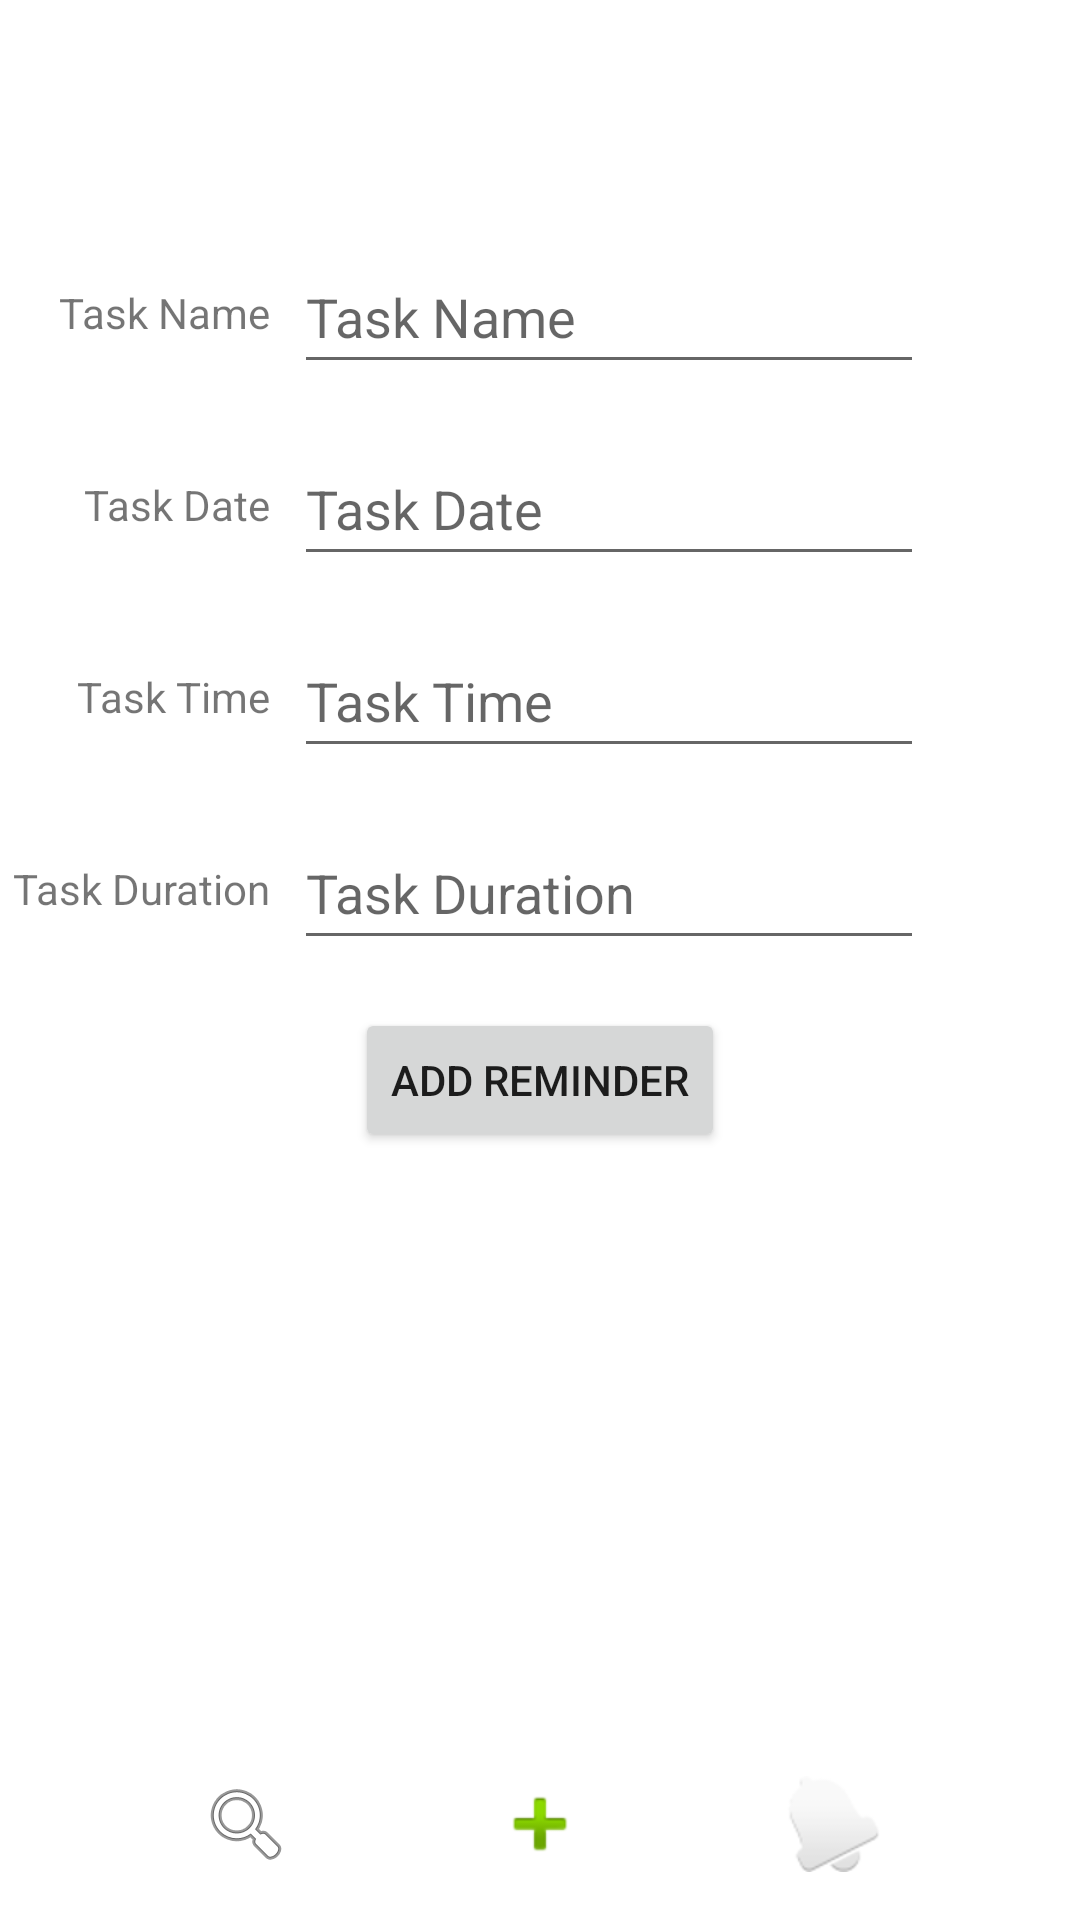

Icon click points for this 1080px x 1920px phone screenshot, format [x,y]:
add: [540,1824]
search: [246,1824]
